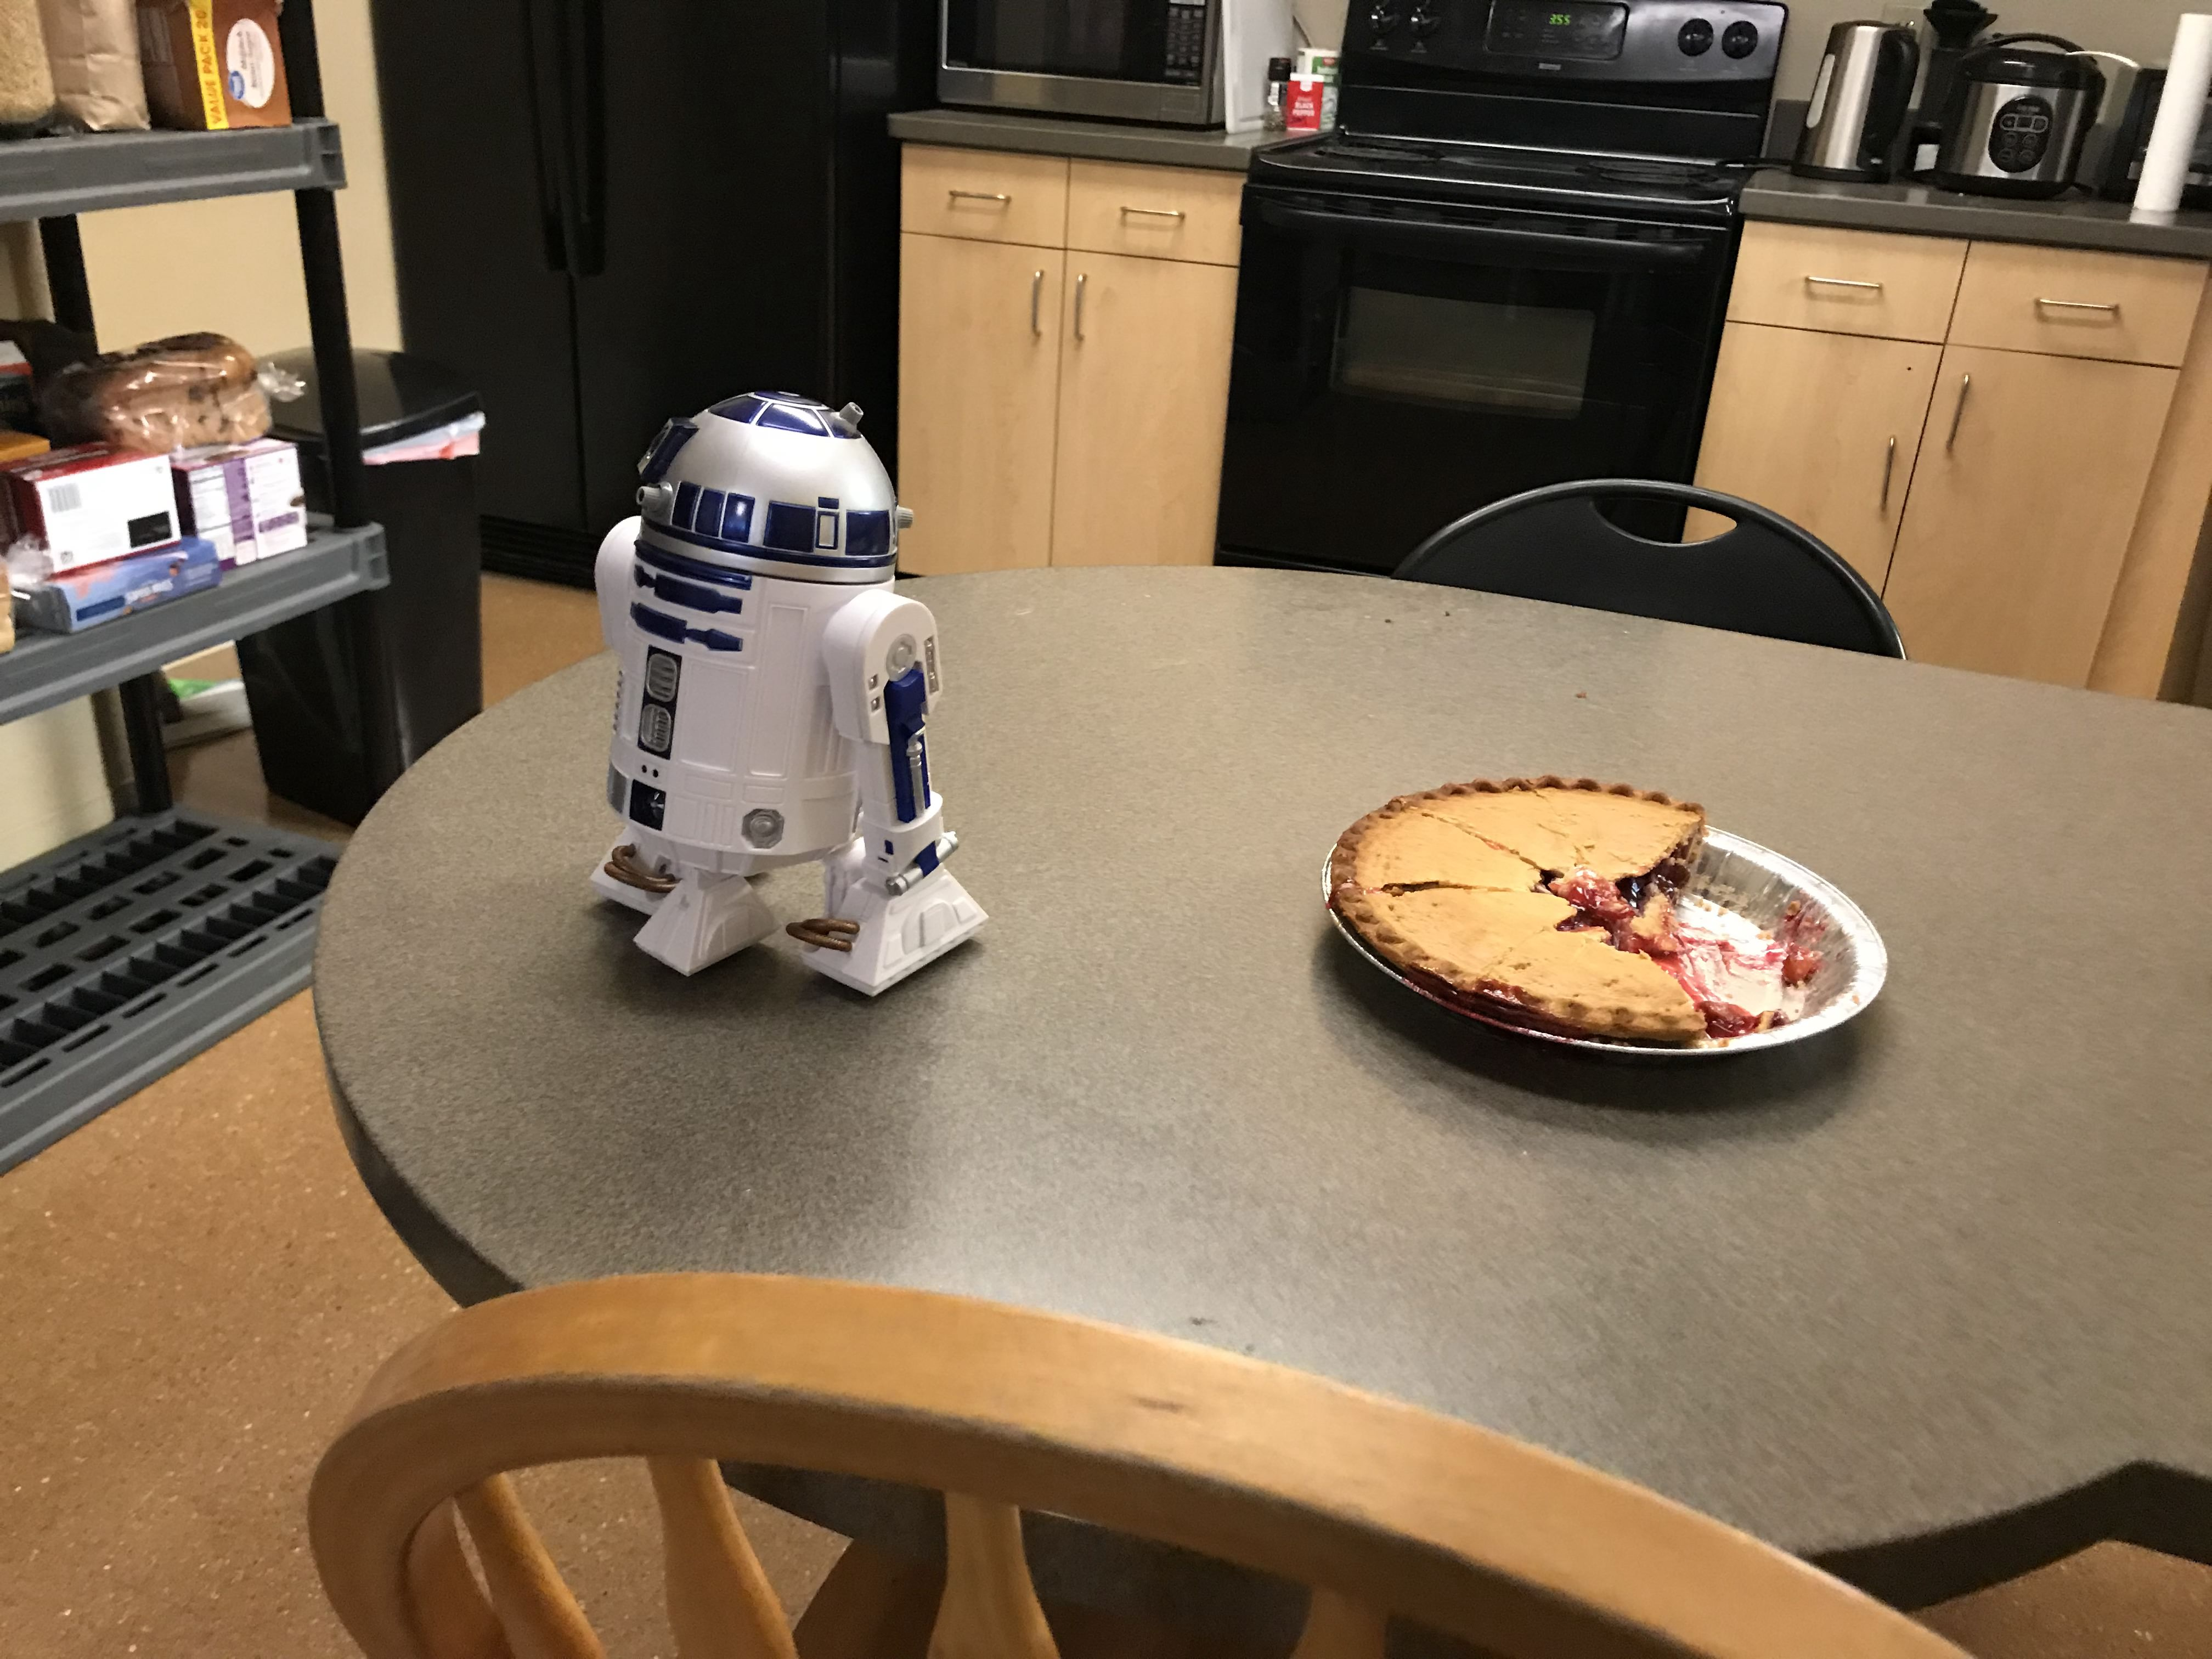r2d2: (592, 392, 993, 997)
